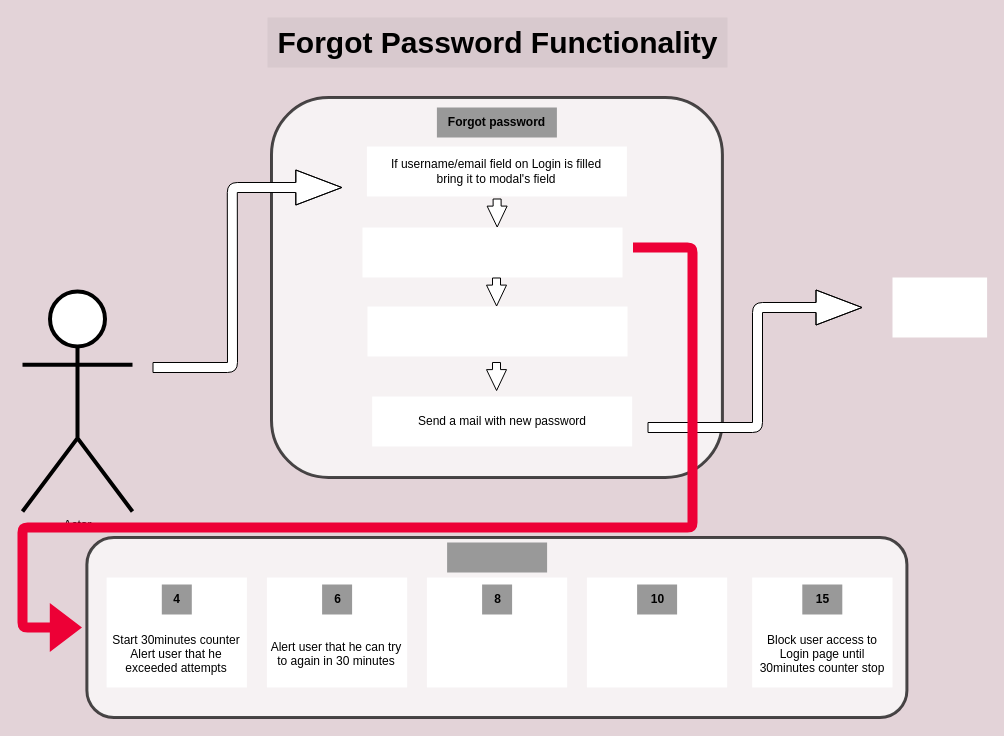
The diagram is 1004 pixels wide and 736 high, and some of its shapes have lost their labels. Each missing label, with the box of its shape:
Alert user that it's starting to get a little bit awkward! LOL: (586, 577, 727, 687)
Alert user that we keep seeing his attempts: (426, 577, 567, 687)
Check user exists, if it doesn't for 3 times go to 'Limit Attempts': (362, 227, 622, 277)
Close modal and alert user: (892, 277, 987, 337)
Generate new strong password: (367, 306, 627, 356)
Limit Attempt: (447, 542, 547, 572)
